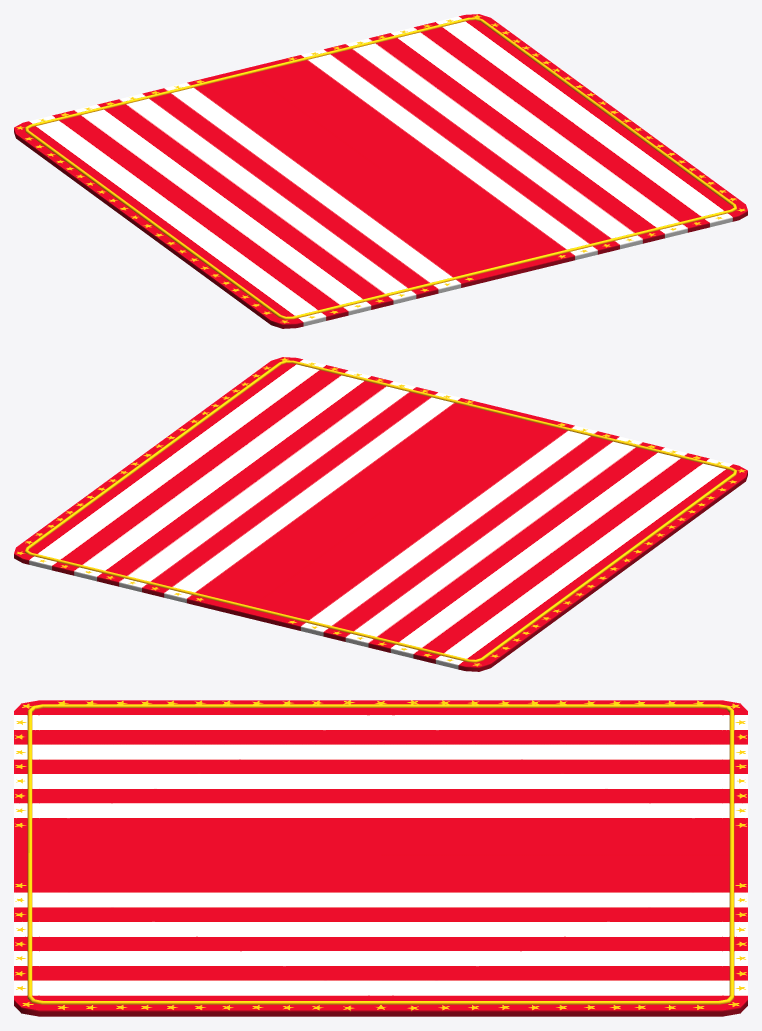
File: obj_floor.gltf
The picture shows the model from 3 angles, top to bottom: view 1: azimuth 30°, elevation 25°; view 2: azimuth 150°, elevation 25°; view 3: azimuth 270°, elevation 25°; orthographic projection. The views are drawn at different scales.
Parts seen in each view (by area): view 1: obj_floor; view 2: obj_floor; view 3: obj_floor.
Boxes of the visible parts, box(x1,y1,x2,y2) form: obj_floor: box(14, 14, 747, 328); obj_floor: box(14, 357, 747, 671); obj_floor: box(14, 700, 747, 1016).
Size of what is drawn, in the model's own units: 16 by 0.2154 by 16.
Materials: 1 (1 with a texture image).
